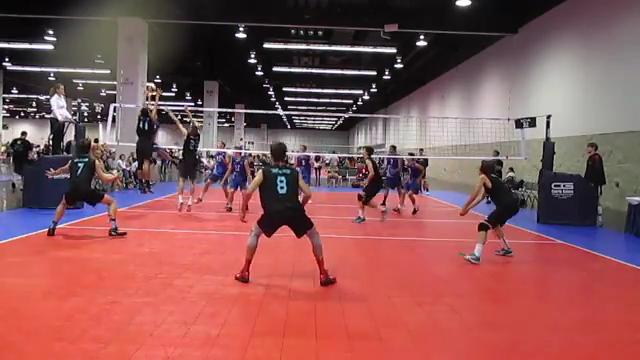Block: (162, 98, 201, 213), (124, 84, 162, 190)
Player: (235, 142, 335, 285), (46, 139, 125, 235), (460, 160, 518, 263), (354, 146, 382, 222), (196, 151, 230, 202), (222, 152, 249, 211), (381, 145, 403, 210), (402, 153, 424, 214), (296, 145, 311, 185)
ball: (144, 82, 158, 93)
